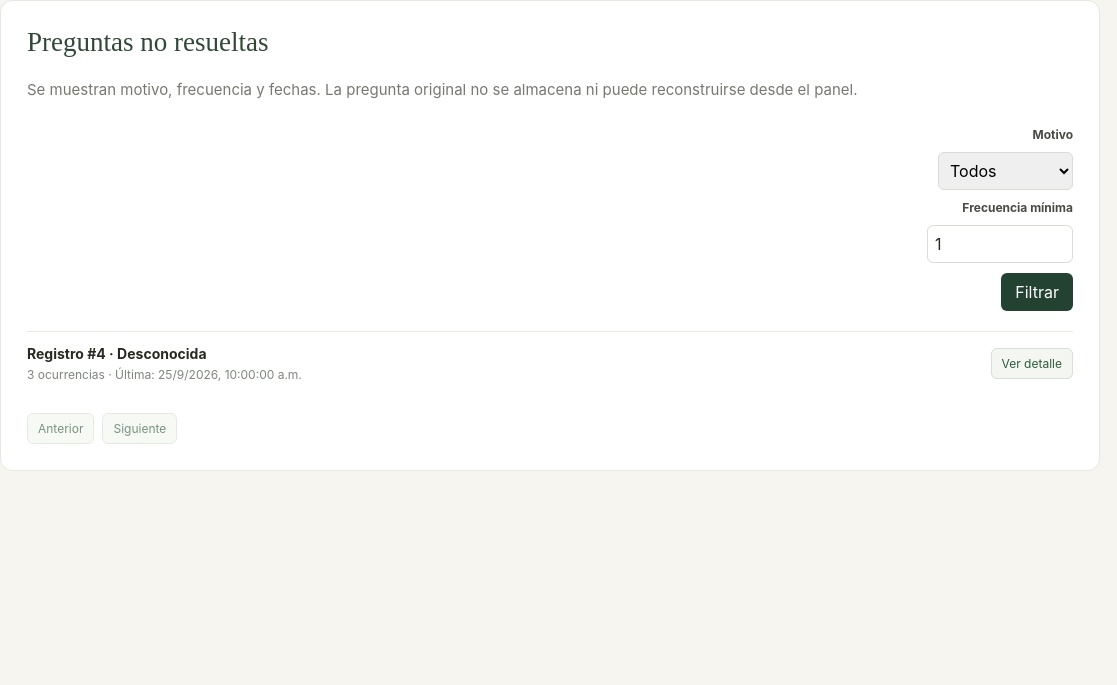
Scenario: oculta la resolución al perfil de consulta
This screenshot has width=1117, height=685.
Expected: the text "Registro #4 · Desconocida" is shown, x1=27 y1=345 x2=206 y2=362
Step 1. Click the button "Ver detalle" → (1032, 364), box x1=991 y1=348 x2=1073 y2=379
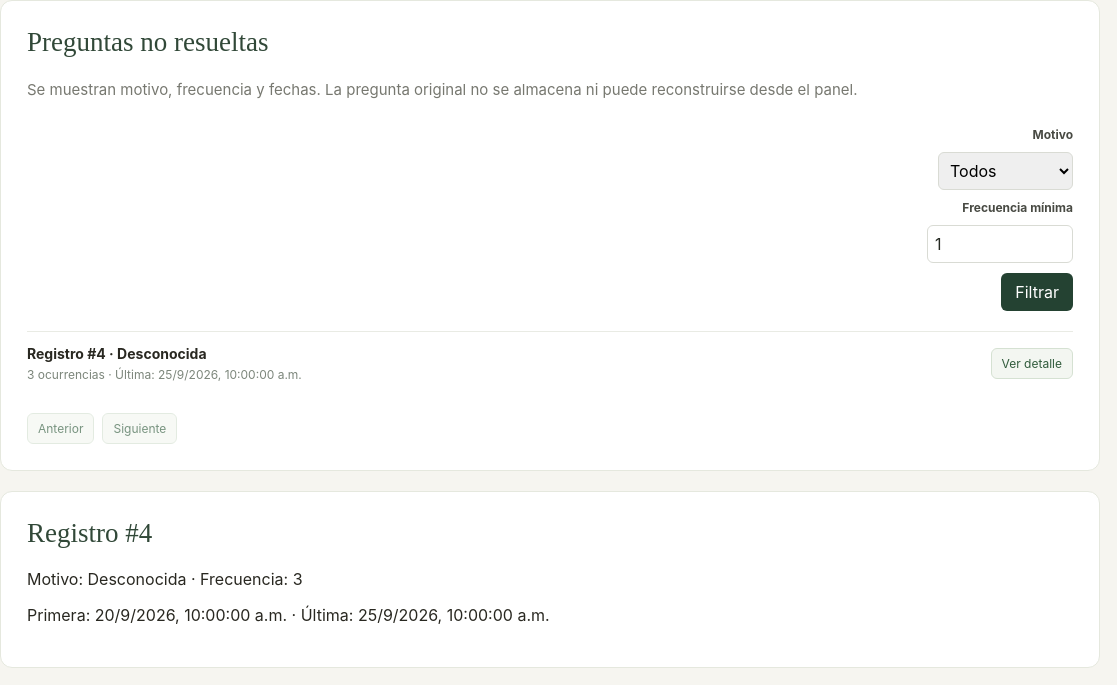
Expected: the element named "Detalle de pregunta no resuelta" is shown, x1=0 y1=491 x2=1100 y2=668
